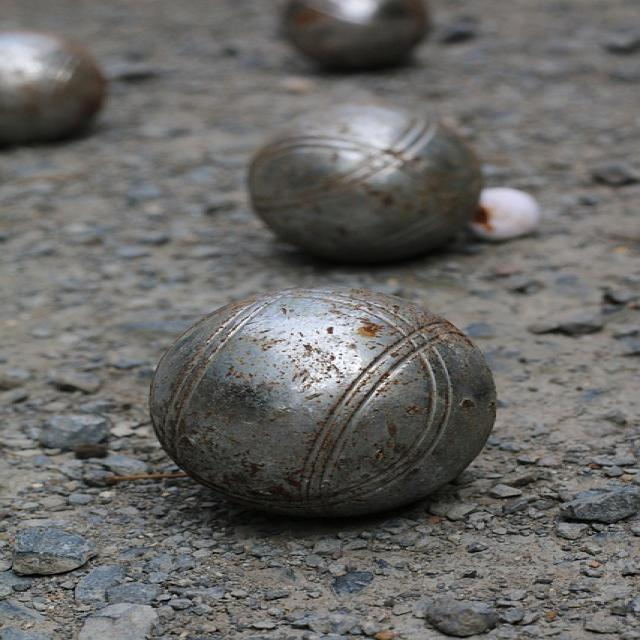hatball: (446, 185, 557, 251)
petanque: (130, 284, 511, 527), (240, 96, 497, 267), (0, 20, 140, 163), (262, 0, 448, 84)
